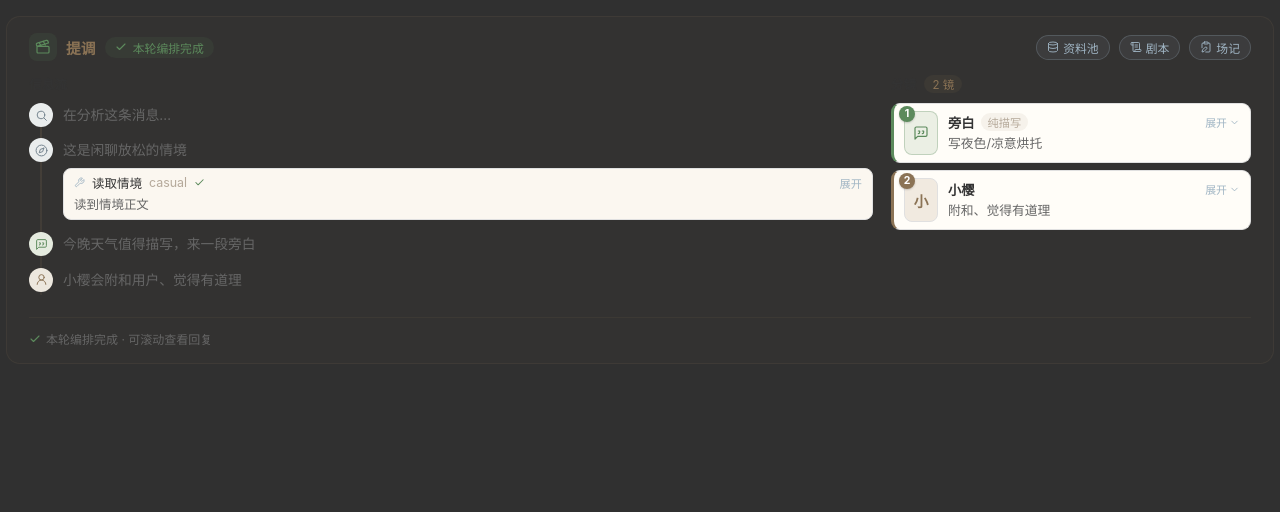
it: TidiaoDirectorStreamBand › 形态1·E5 角色镜钻取（per-speaker 过程可见性） › 动态工作流步骤轨：节点按状态渲染（done 打勾 / running 转圈 / failed 画叉）+ 单步耗时 + 评审降级可点开
// 旁白镜恒可钻取在前 → 取角色镜 drill（末个）展开
Click the 2nd button with class "tds-shot-drill" at {"x": 1223, "y": 189}, box [1205, 181, 1240, 197]
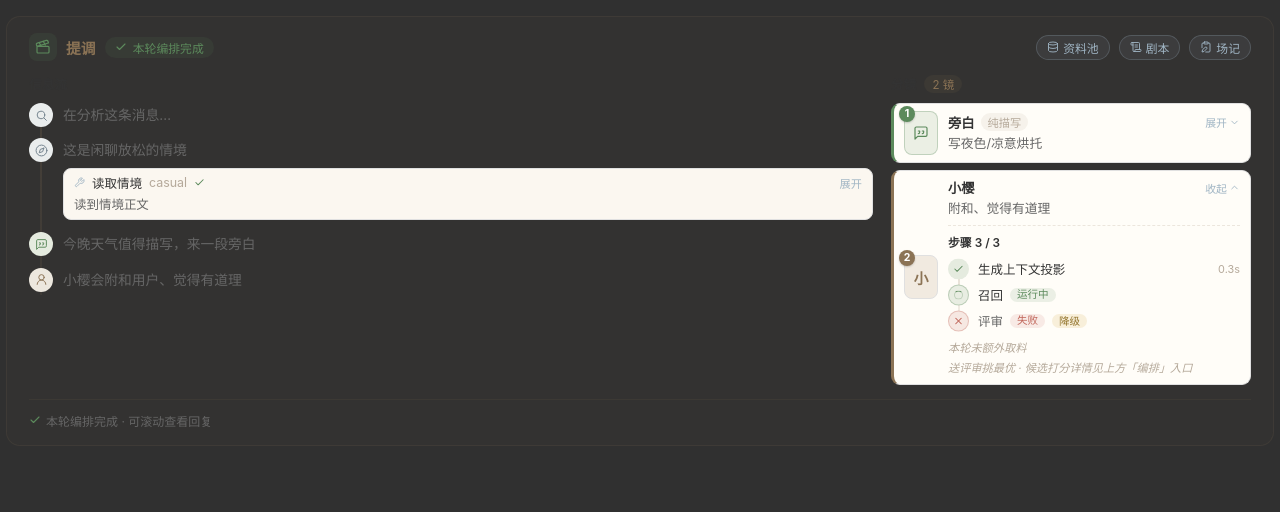
Expected: the number of elements with class "tds-wf-row" is 3, [948, 256, 1240, 282]; [948, 285, 1056, 306]; [948, 311, 1087, 332]
Expected: the element with class "tds-wf-row" shows "生成上下文投影", [978, 262, 1065, 277]
Expected: the element with class "tds-wf-row" shows "0.3s", [1218, 262, 1240, 276]
Click the button with class "tds-wf-tag--skip" at {"x": 1070, "y": 321}, box [1052, 314, 1087, 328]
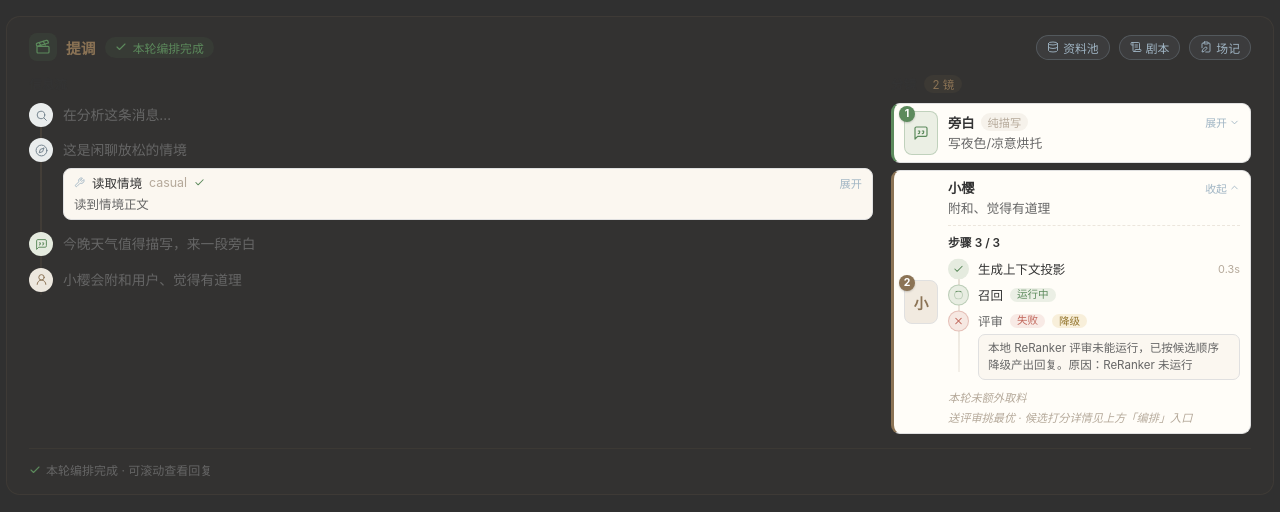
Expected: the text with class "tds-wf-note" shows "ReRanker 未运行", [988, 341, 1219, 372]
